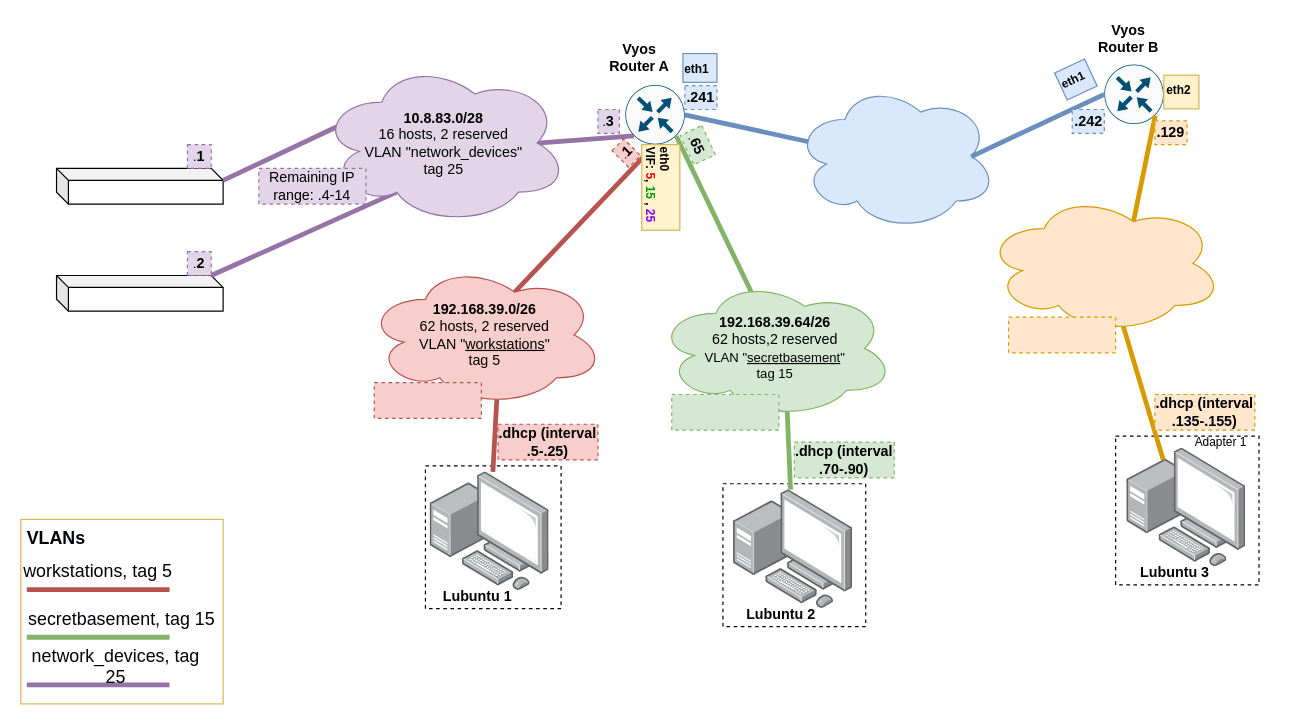
Some shapes in this 1291 by 725 pixel diagram are drawn without their labels. The shapes that lost their labels are listed below. From the top down, each one's centre as x and y in pixels, then its label:
At point (895, 156): "10.8.83.240/30 2 hosts, 2 reserved".
At point (139, 185): "Network_Switch_A".
At point (1103, 262): "192.168.39.128/26 62 hosts,2 reserved".
At point (139, 292): "Network_Switch_B".
At point (1061, 334): "Remaining IP range: .131-190".
At point (427, 399): "Remaining IP range: .3 - 62".
At point (725, 411): "Remaining IP range: .67 - 126".
